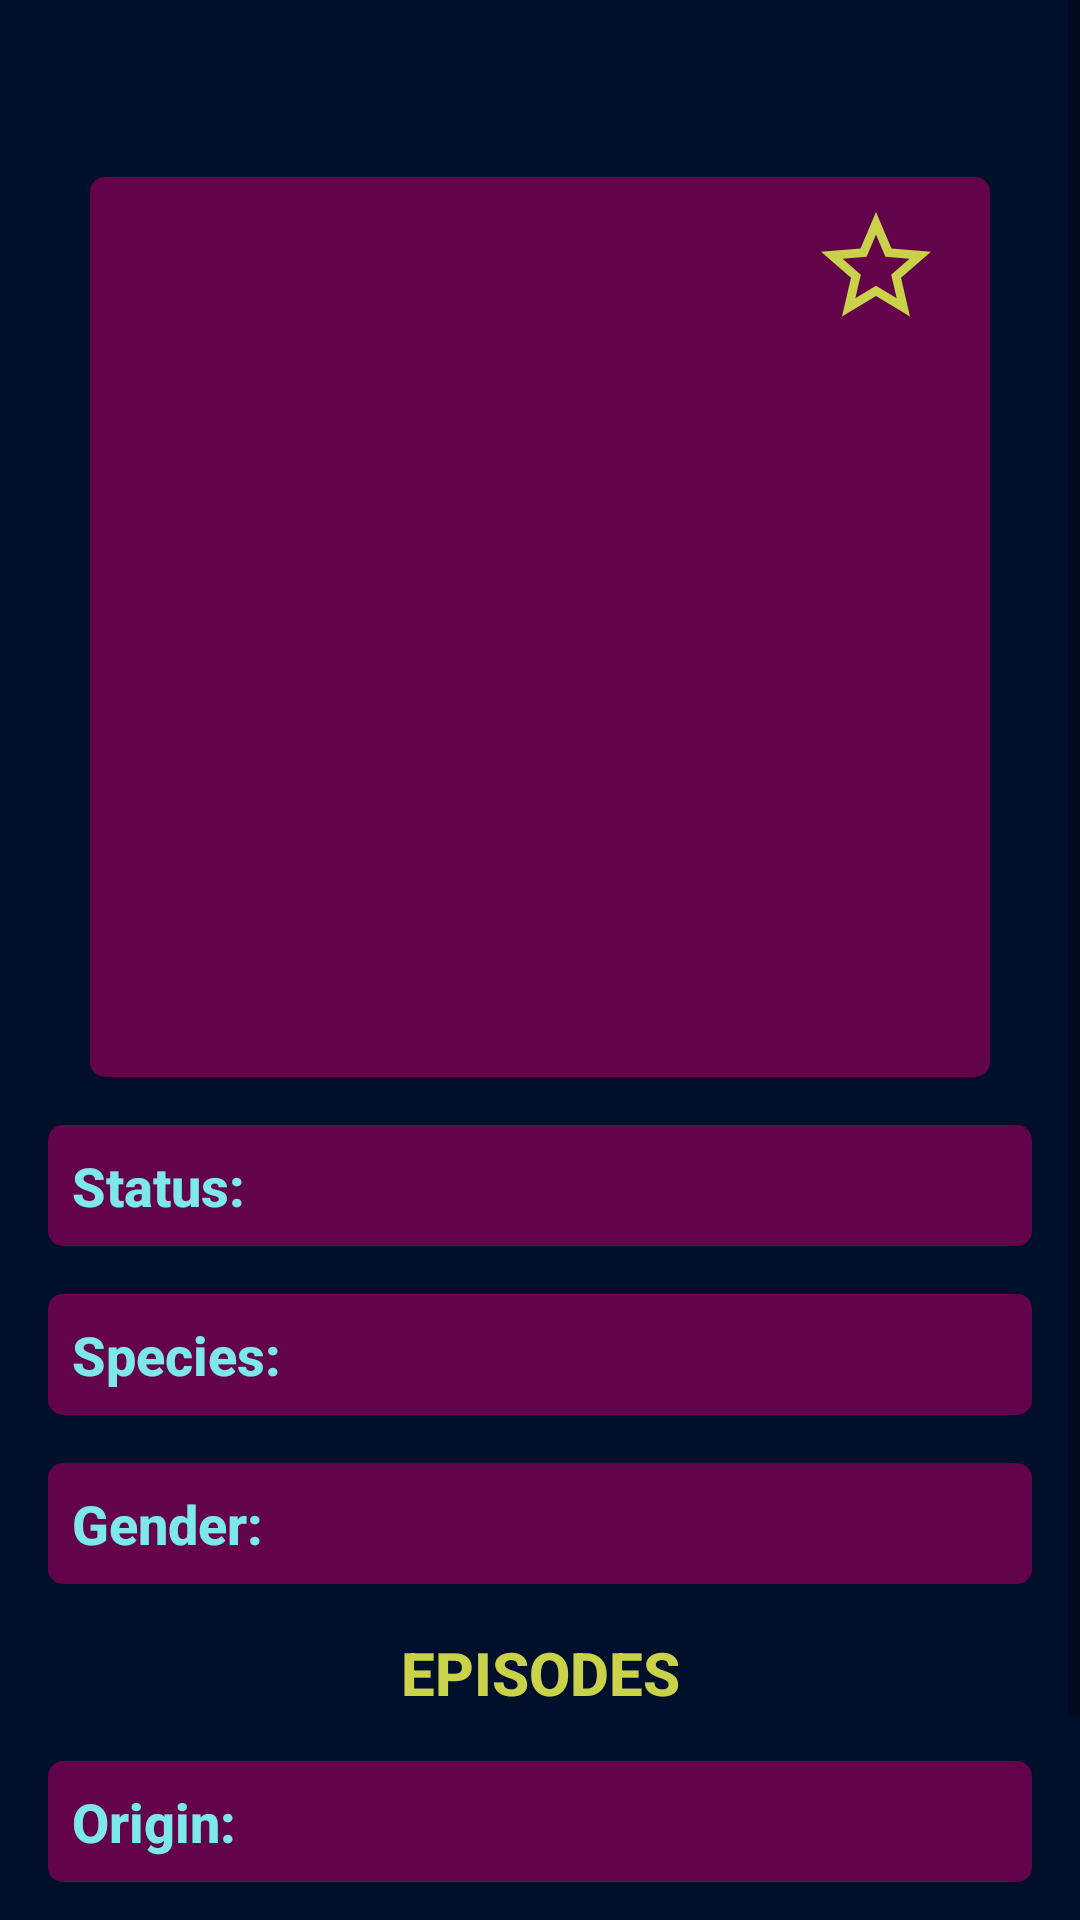

Icons on this 1080px x 1920px Android screen, each with the point to tap as (x=x, y=y):
empty star: (x=876, y=264)
